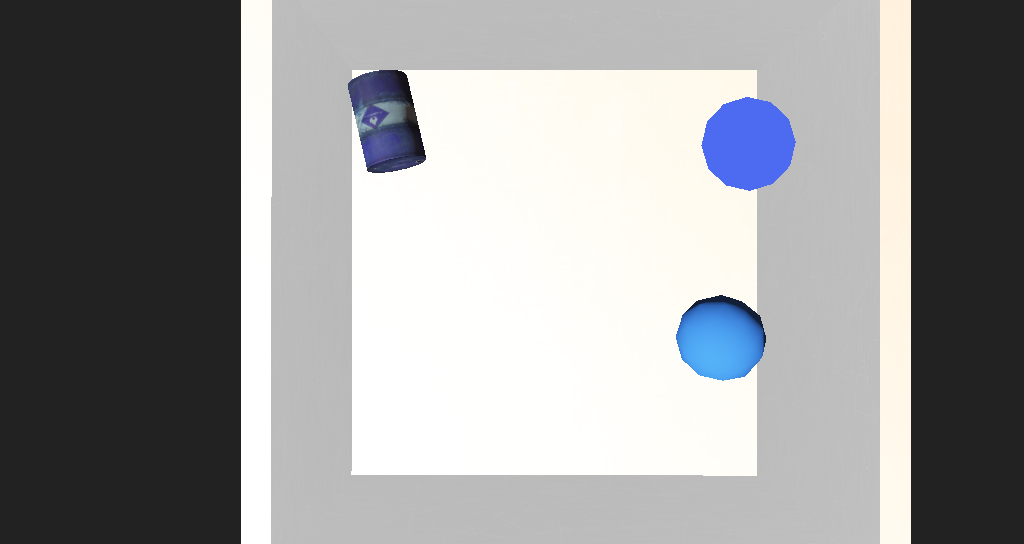cone: (344, 165, 411, 217)
cylinder: (603, 181, 677, 229)
sphere: (596, 277, 657, 324)
